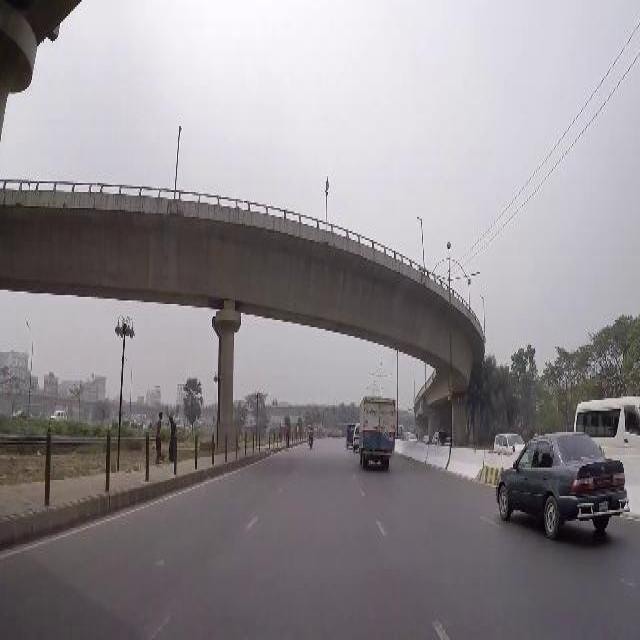bike: (308, 423, 314, 450)
vehicle: (495, 430, 632, 544), (573, 394, 639, 447), (360, 398, 396, 469), (494, 433, 526, 454), (433, 430, 455, 448), (347, 423, 356, 448), (408, 434, 418, 443)
